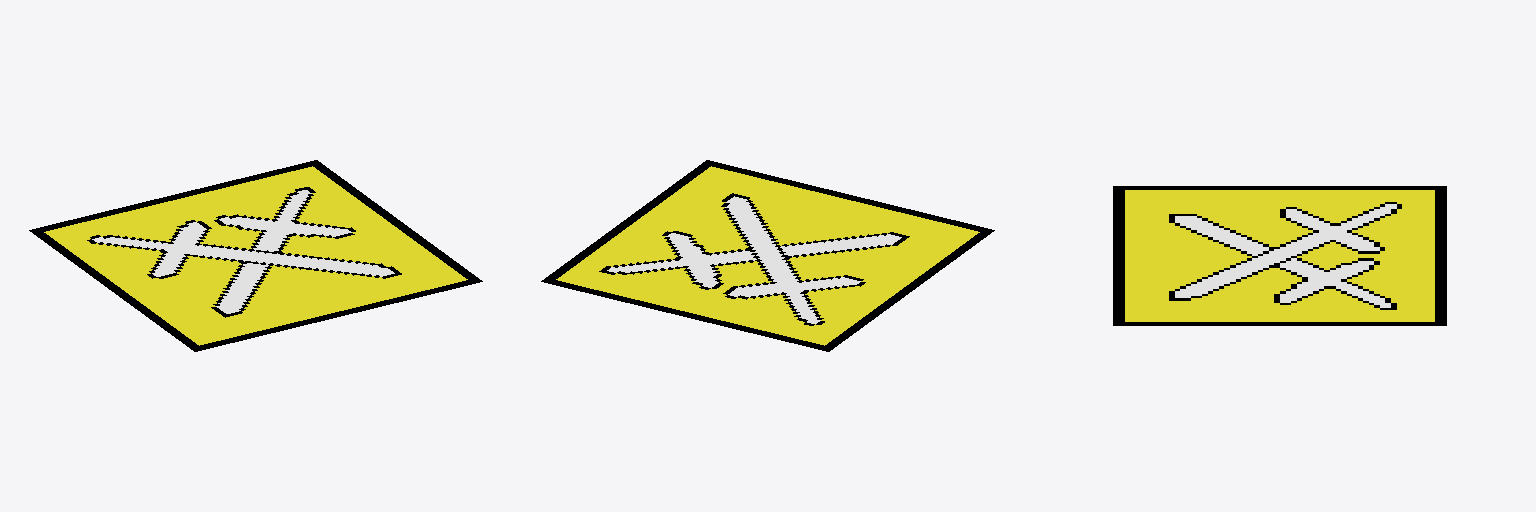
3 views of the same model, side by side, from view 1: azimuth 30°, elevation 25°; view 2: azimuth 150°, elevation 25°; view 3: azimuth 270°, elevation 25° (orthographic).
Visible parts, largest first — view 1: 平面.001; view 2: 平面.001; view 3: 平面.001.
Part boxes in pixels (x1,y1,x2,y2): 平面.001: (29,160,482,351); 平面.001: (541,160,994,351); 平面.001: (1113,186,1446,325).
Size of the model in its own units: 2 by 0 by 2.
Materials: 1 (1 with a texture image).